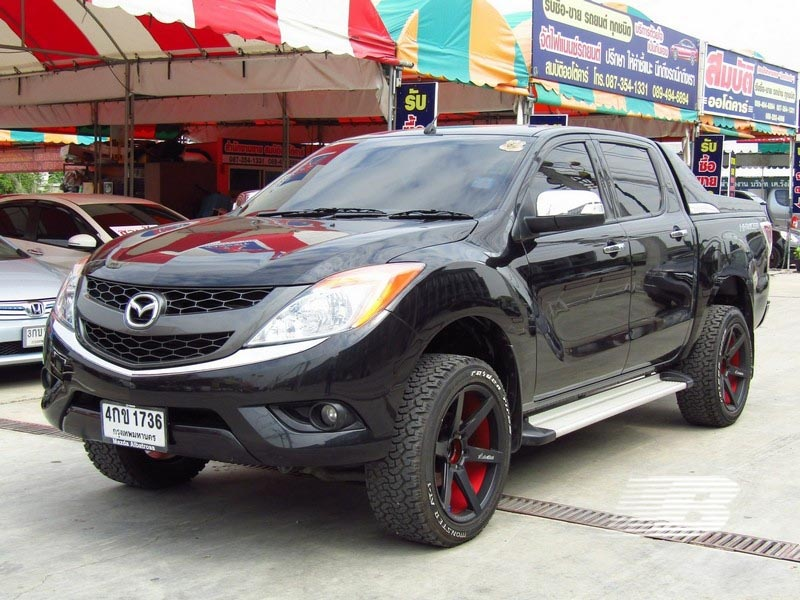pickup: (44, 123, 776, 548)
